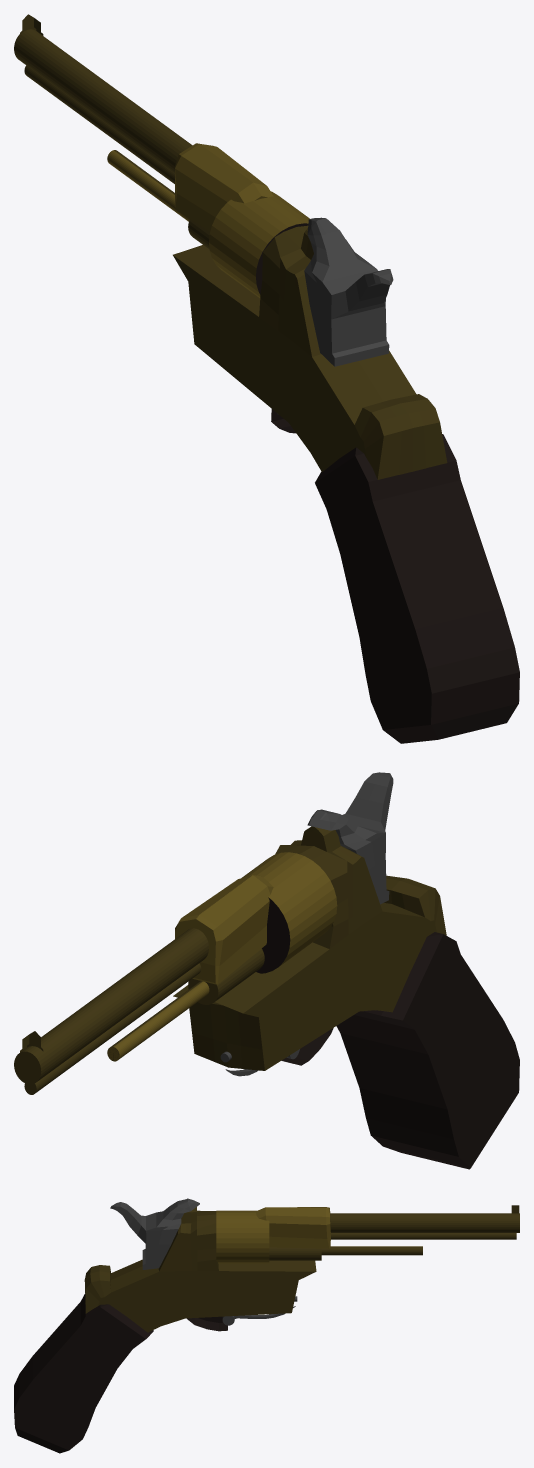
File: gun.fbx
3 views of the same model, one above another, from view 1: azimuth 30°, elevation 25°; view 2: azimuth 150°, elevation 25°; view 3: azimuth 270°, elevation 25° (orthographic). The views are drawn at different scales.
Parts seen in each view (by area): view 1: Cube.001; view 2: Cube.001; view 3: Cube.001.
Part boxes in pixels (bbox=[...]): Cube.001: bbox=[14, 14, 519, 743]; Cube.001: bbox=[14, 772, 519, 1169]; Cube.001: bbox=[14, 1198, 519, 1453].
Size of the model in its own units: 52.08 by 245 by 459.
